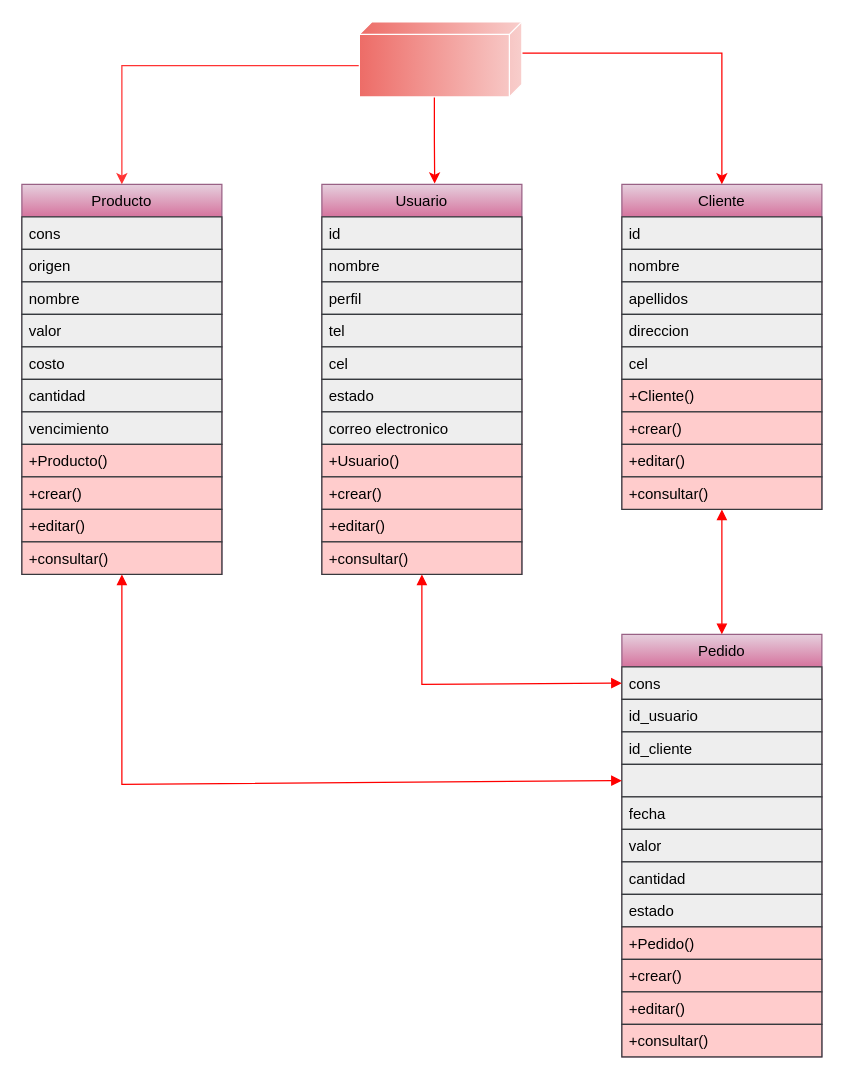
Some shapes in this 844 by 1083 pixel diagram are drawn without their labels. The centre of each missing label's shape, as x and y in pixels:
"id_producto" goes at pixel 721 780.
"tdm" goes at pixel 440 59.
